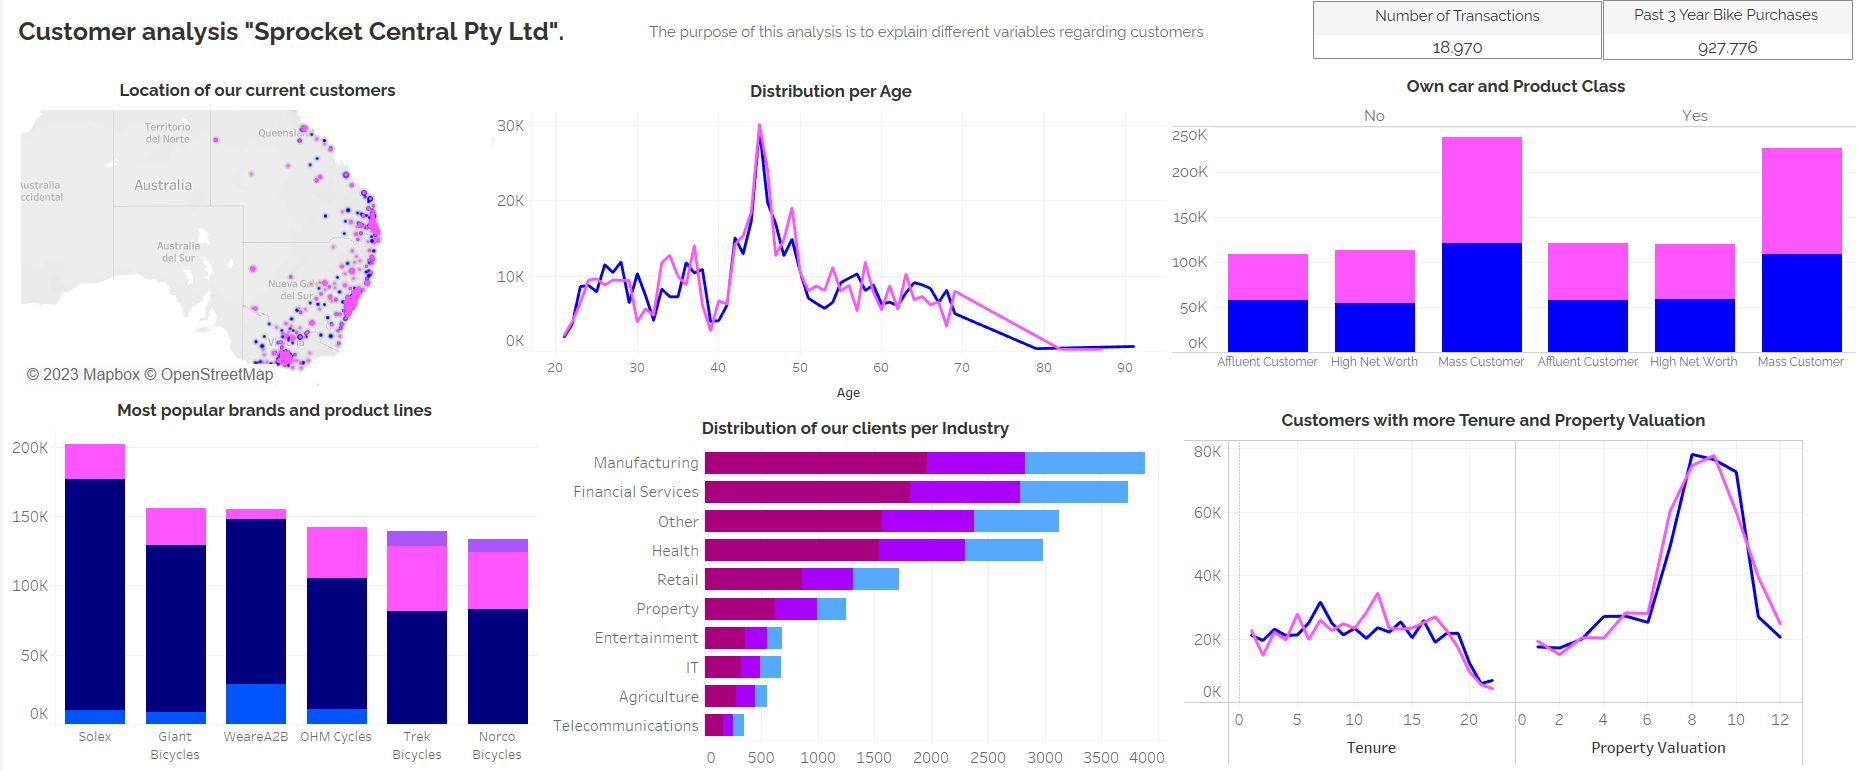

The page's visual inventory and layout, read from the dashboard file:
{"tool":"tableau","page":{"name":"Dashboard 1","canvas":[1000,1000],"units":"permille","ordinal":0},"visuals":[{"type":"worksheet","title":"Hoja 10","mark":"Text","box":[860.9,0,134.5,76.4]},{"type":"worksheet","title":"Hoja 10 (2)","mark":"Text","box":[704.6,1.3,155.4,74]},{"type":"title","box":[4.3,10.2,991.4,59.9]},{"type":"text","box":[317.4,15.3,358.8,49.7]},{"type":"worksheet","title":"Hoja 2","mark":"Automatic","rows":["past_3_years_bike_related_purchases"],"cols":["owns_car","wealth_segment"],"box":[628.8,90.6,367.9,410.7]},{"type":"worksheet","title":"Hoja 1","mark":"Automatic","box":[9.7,95.5,254.2,397.4]},{"type":"worksheet","title":"Hoja 4","mark":"Automatic","rows":["past_3_years_bike_related_purchases"],"cols":["Age"],"box":[265.2,96.7,360.3,423.6]},{"type":"worksheet","title":"Hoja 5","mark":"Automatic","rows":["past_3_years_bike_related_purchases"],"cols":["brand"],"box":[4.3,503.8,283.5,470.7]},{"type":"worksheet","title":"Hoja 9","mark":"Automatic","rows":["past_3_years_bike_related_purchases"],"cols":["tenure","property_valuation"],"box":[635.3,516.6,333,460.5]},{"type":"worksheet","title":"Hoja 3","mark":"Automatic","rows":["job_industry_category"],"cols":["transaction_id"],"box":[291,526.8,335.1,455.4]}]}

Visuals, with their boxes on the dashboard's canvas, which has no fixed pixel size, in thousandths of its width and height (x1, y1, x2, y2). These are canvas units, not pixel positions in the 1862x771 screenshot, which may show the page scaled, cropped or inside an application window:
"Hoja 10" worksheet (Text marks): crop(861, 0, 995, 76)
"Hoja 10 (2)" worksheet (Text marks): crop(705, 1, 860, 75)
title: crop(4, 10, 996, 70)
text: crop(317, 15, 676, 65)
"Hoja 2" worksheet: crop(629, 91, 997, 501)
"Hoja 1" worksheet: crop(10, 96, 264, 493)
"Hoja 4" worksheet: crop(265, 97, 626, 520)
"Hoja 5" worksheet: crop(4, 504, 288, 974)
"Hoja 9" worksheet: crop(635, 517, 968, 977)
"Hoja 3" worksheet: crop(291, 527, 626, 982)
